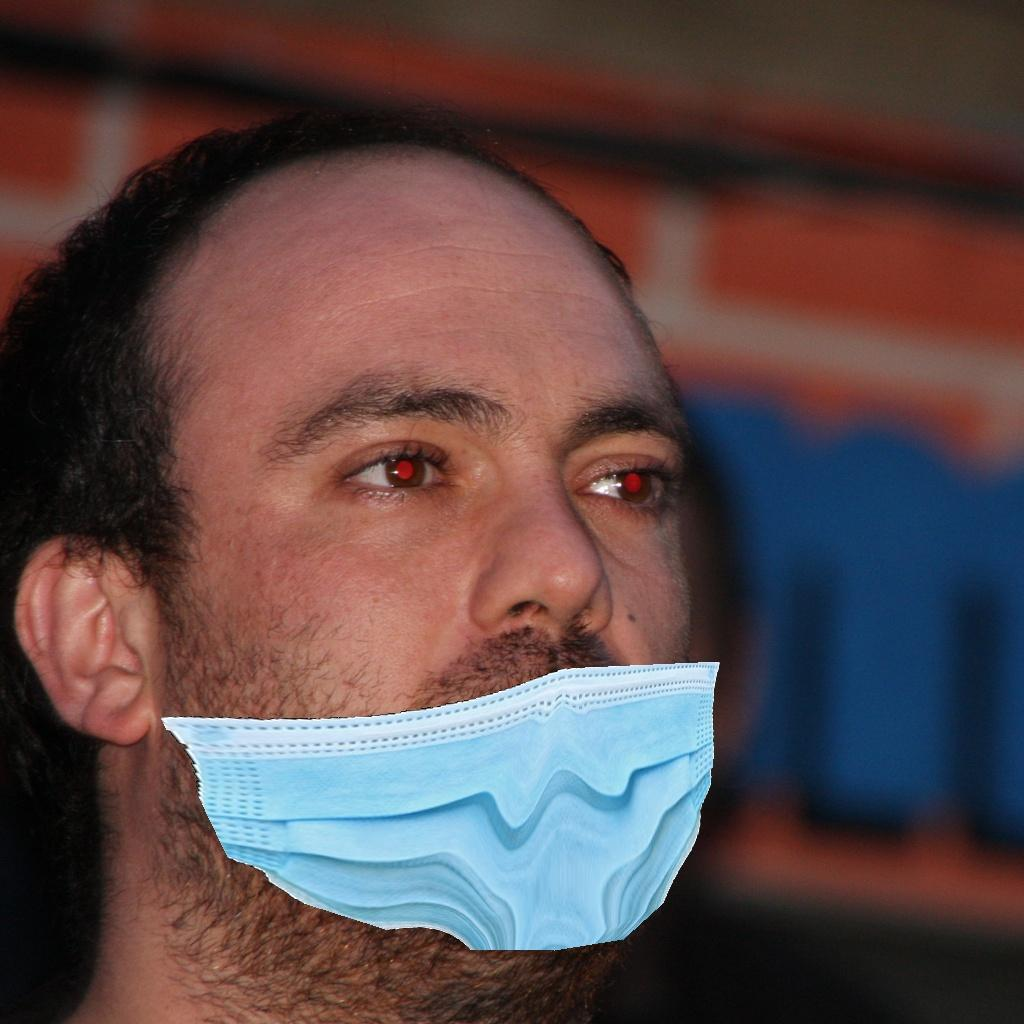Máscara Incorreta: (275, 316, 697, 950)
